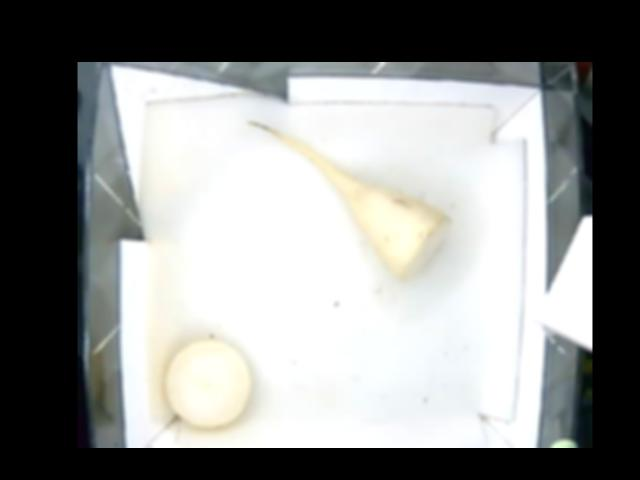Mooli: (340, 172, 448, 279), (163, 334, 252, 427)
